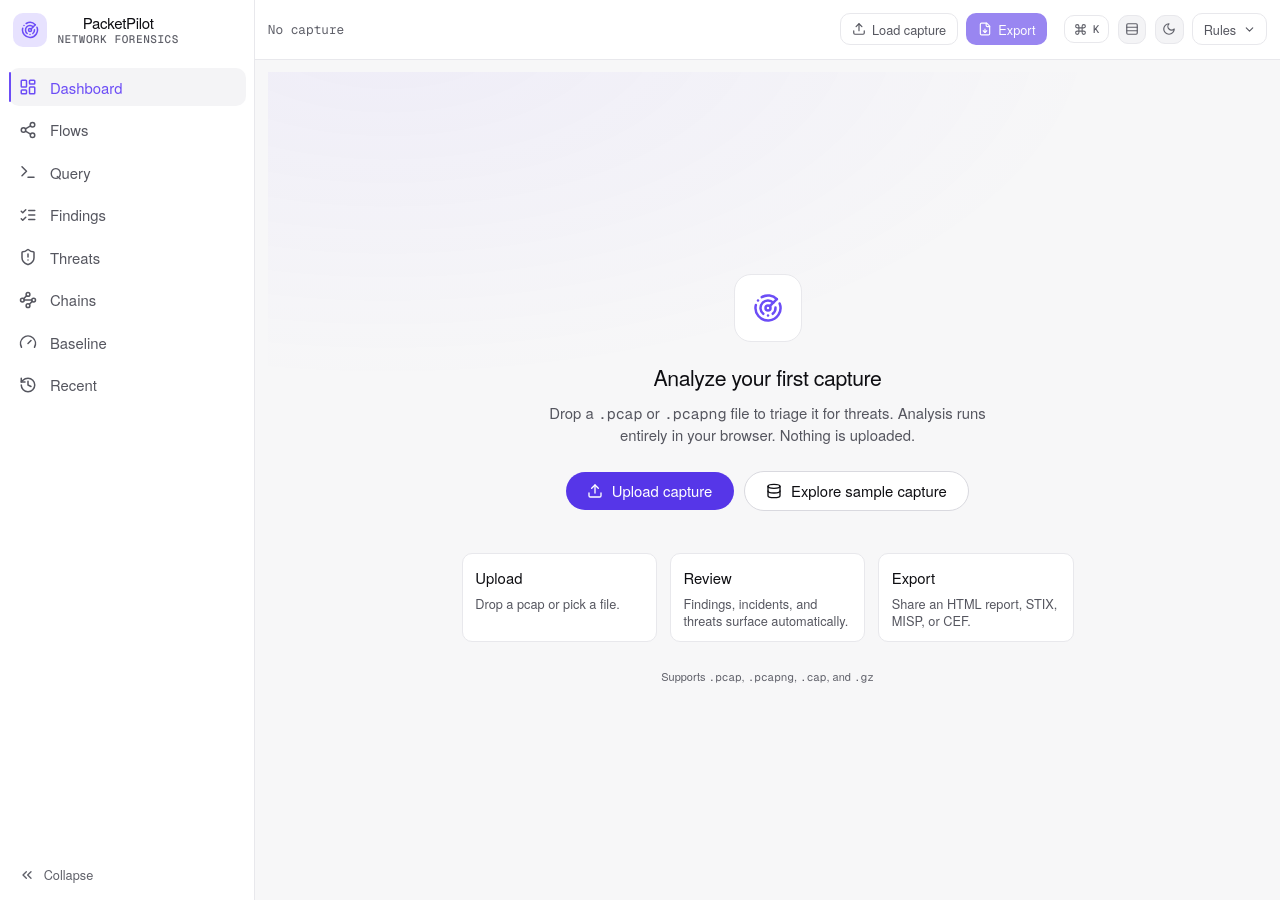
Test: App routing › Threats view: clicking a non-incident host routes to filtered Flows
The width and height of the screenshot is (1280, 900).
Click the button "Explore sample capture" at (857, 491), box [744,471,969,511]
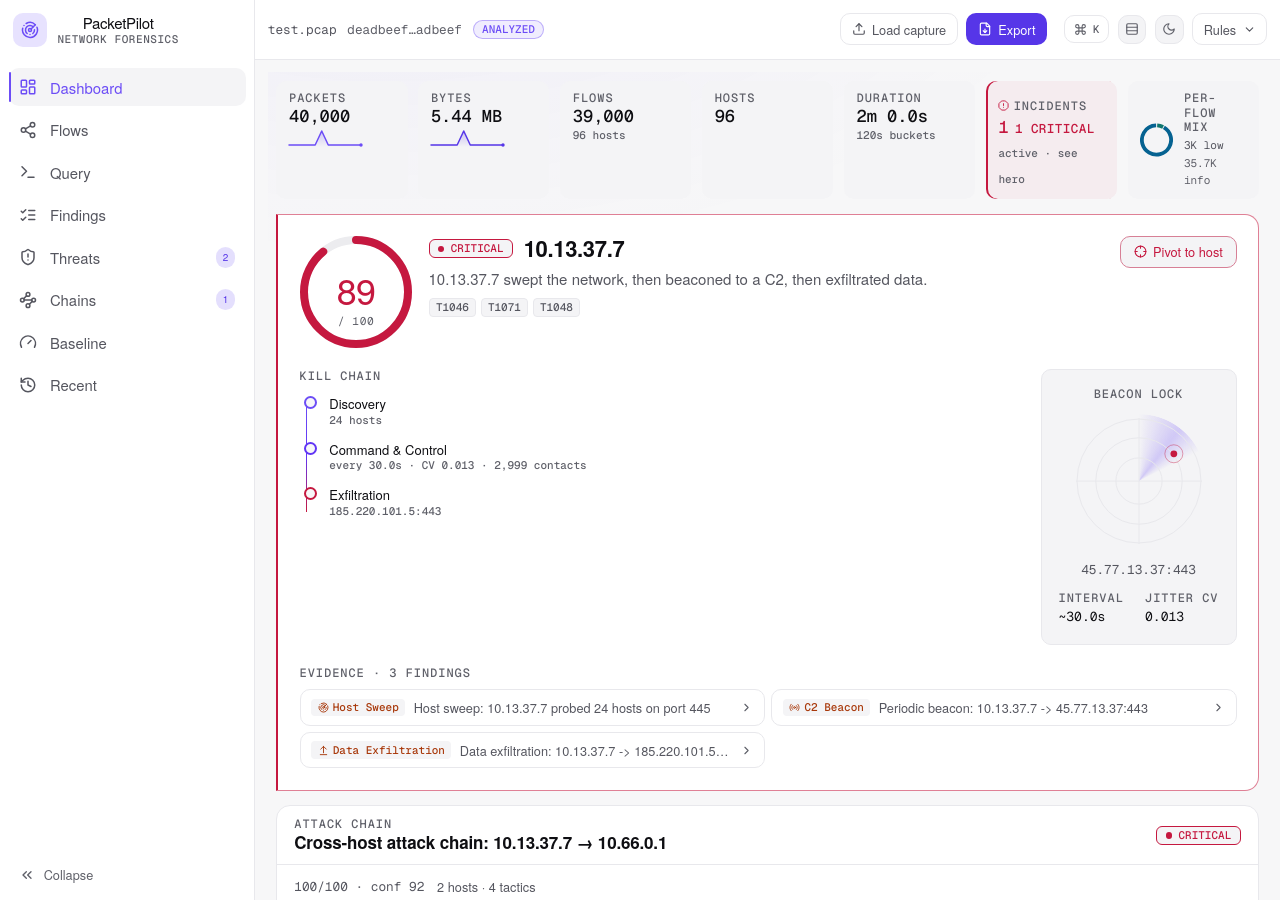
Click the button "Threats 2" at (127, 257), box [8,238,246,276]
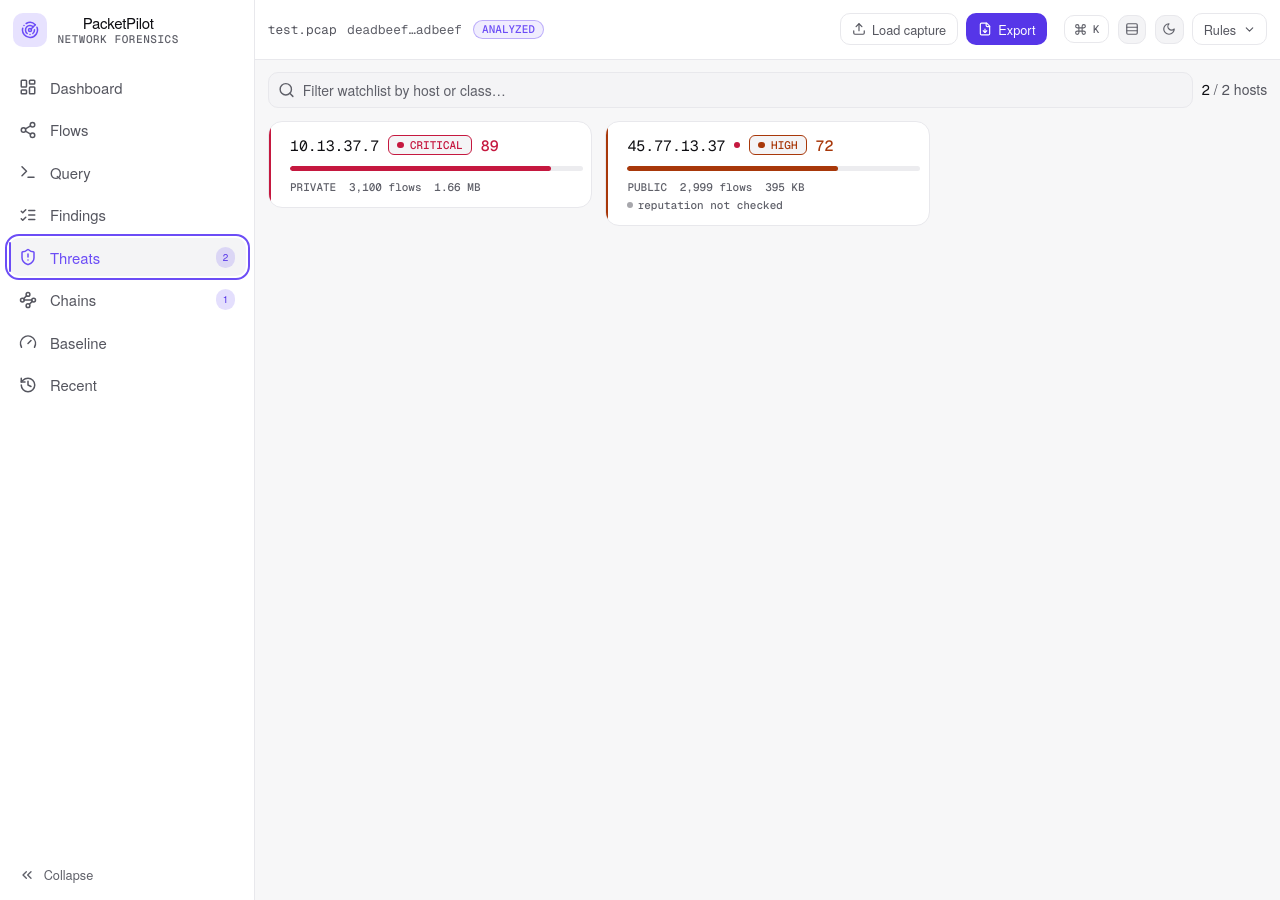
Click the button "45.77.13.37" at (768, 173), box [605,121,930,226]
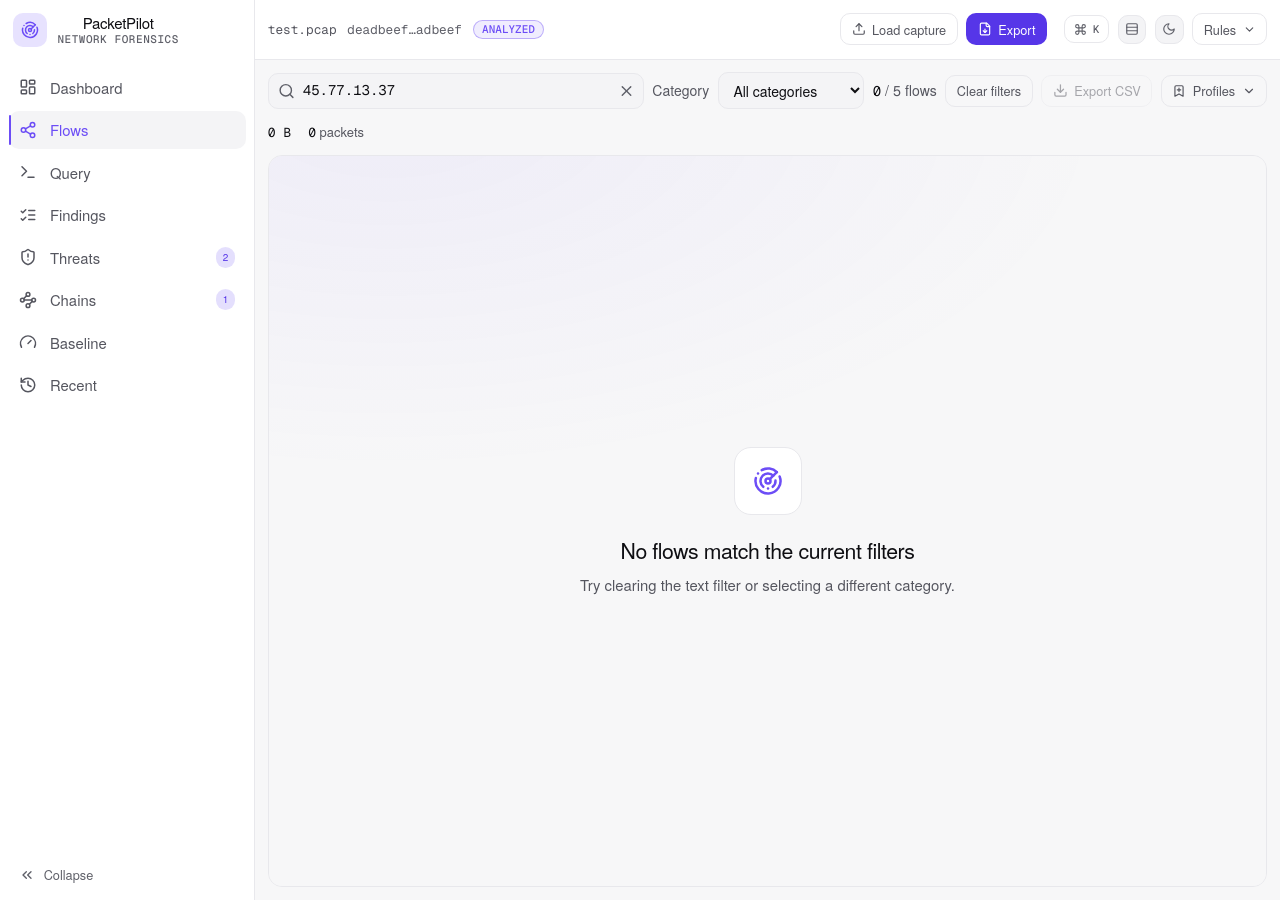
Expected: the field named "Filter flows" holds "45.77.13.37", [268,73,644,109]
